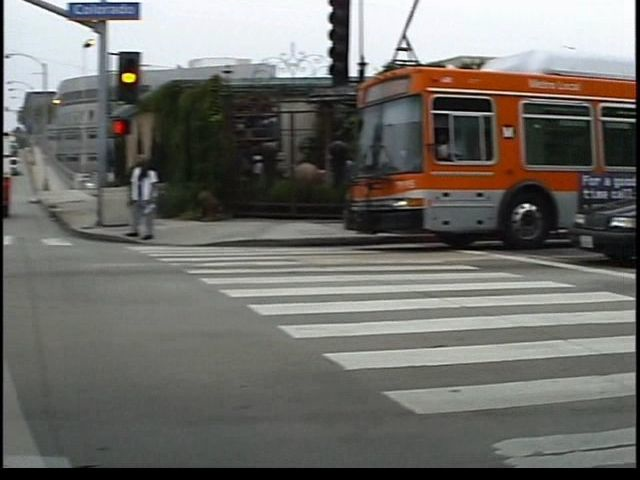person: (136, 152, 173, 247)
